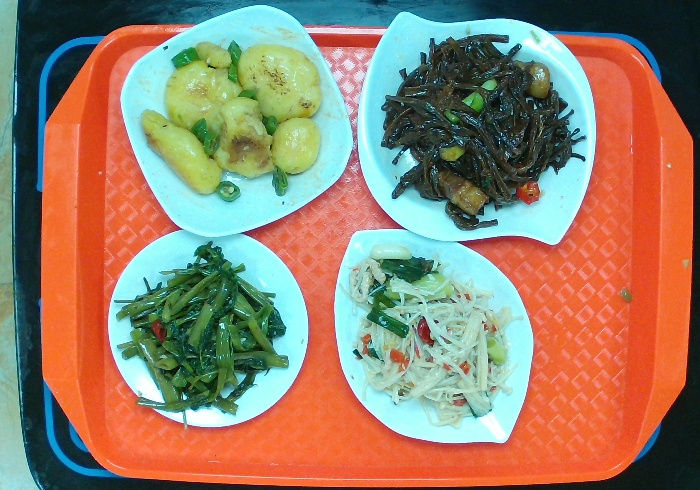RJxy-Da_Du_Pan: (332, 226, 535, 446)
RJxy-Shuang_Jiao_Pan: (356, 9, 598, 247)
RJxy-Si_Fang_Wan: (118, 3, 355, 239)
RJxy-Xiao_Yuan_Die: (106, 228, 310, 429)
